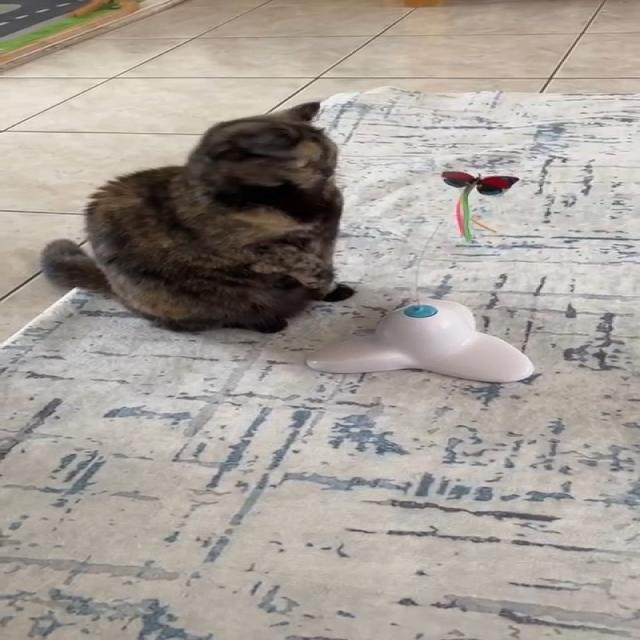authorized: (38, 100, 354, 334)
